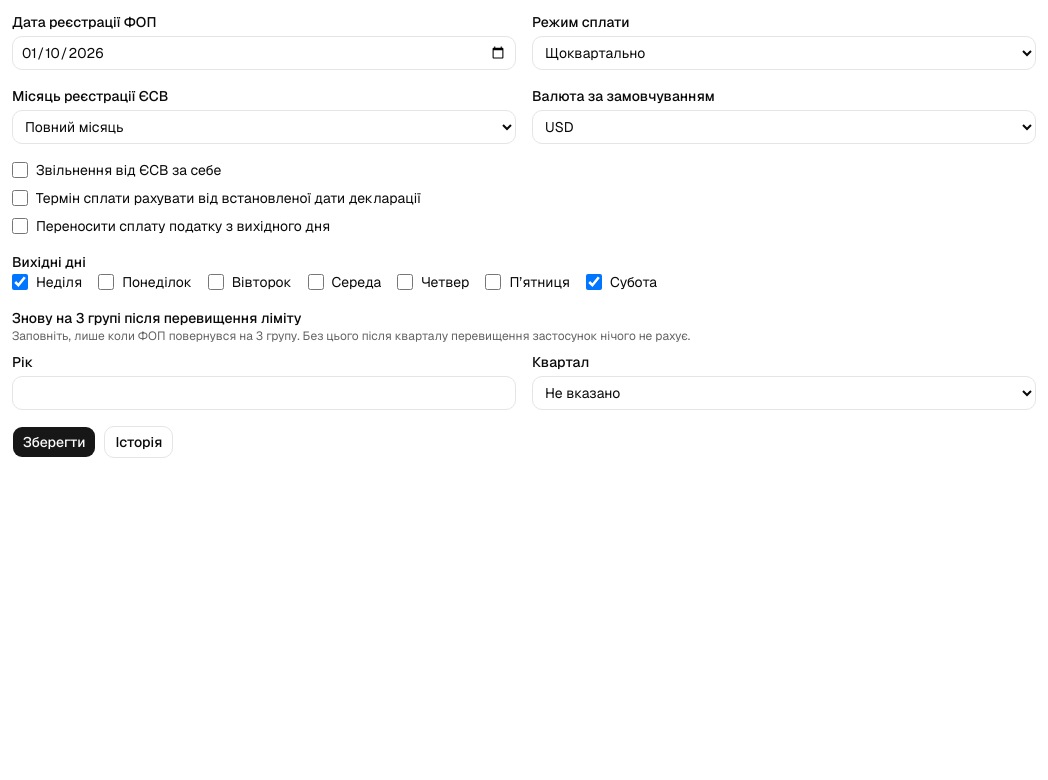
Test: FopSettingsForm rejection › shows the generic sentence, never the English, for a code this build has no words for
Click the button "Зберегти" at (54, 442), box [12,426,96,458]
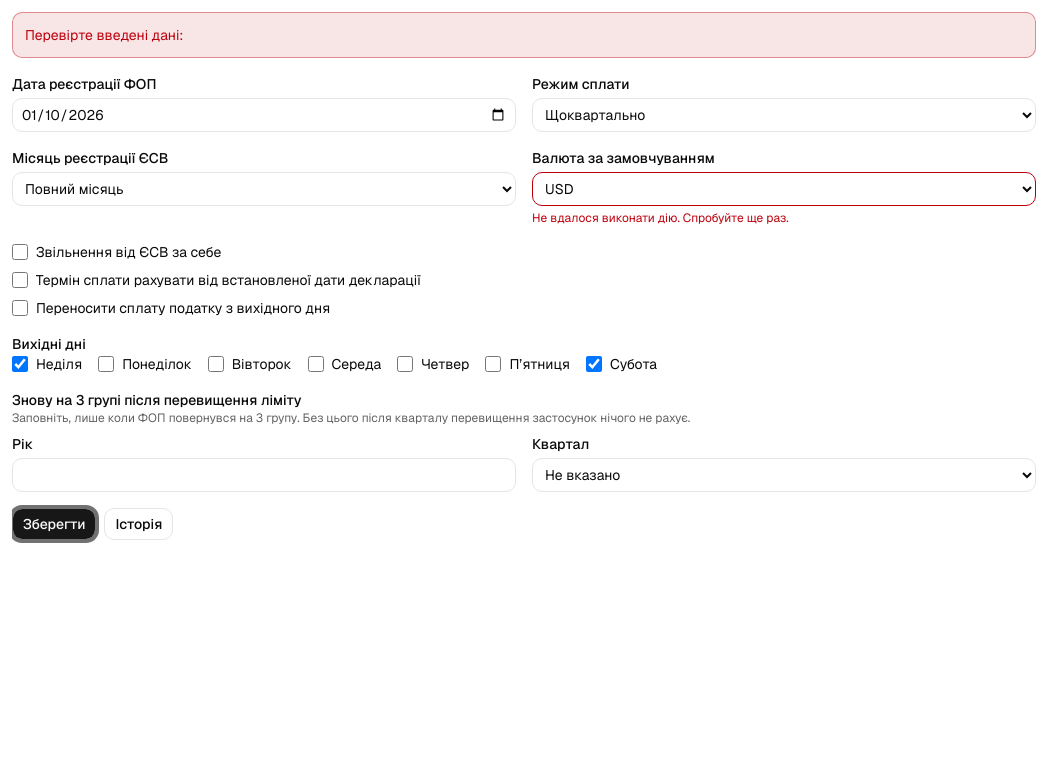
Expected: the text "Не вдалося виконати дію. Спробуйте ще раз." is shown, [532,210,789,226]
